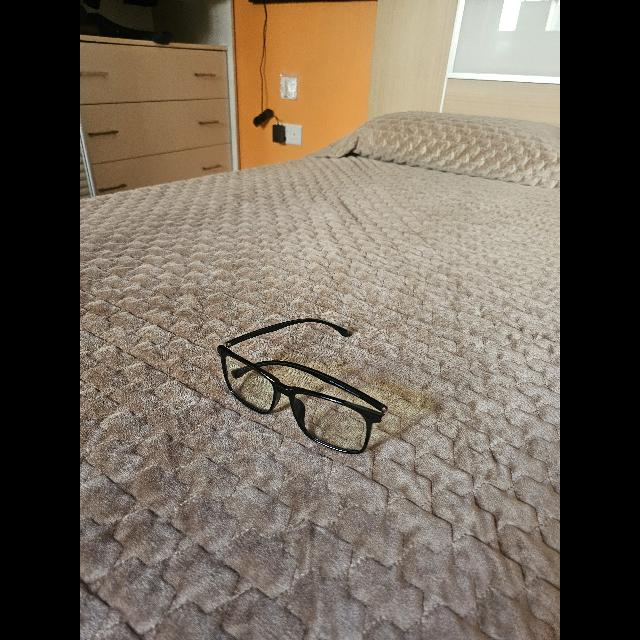glasses: (217, 318, 387, 454)
